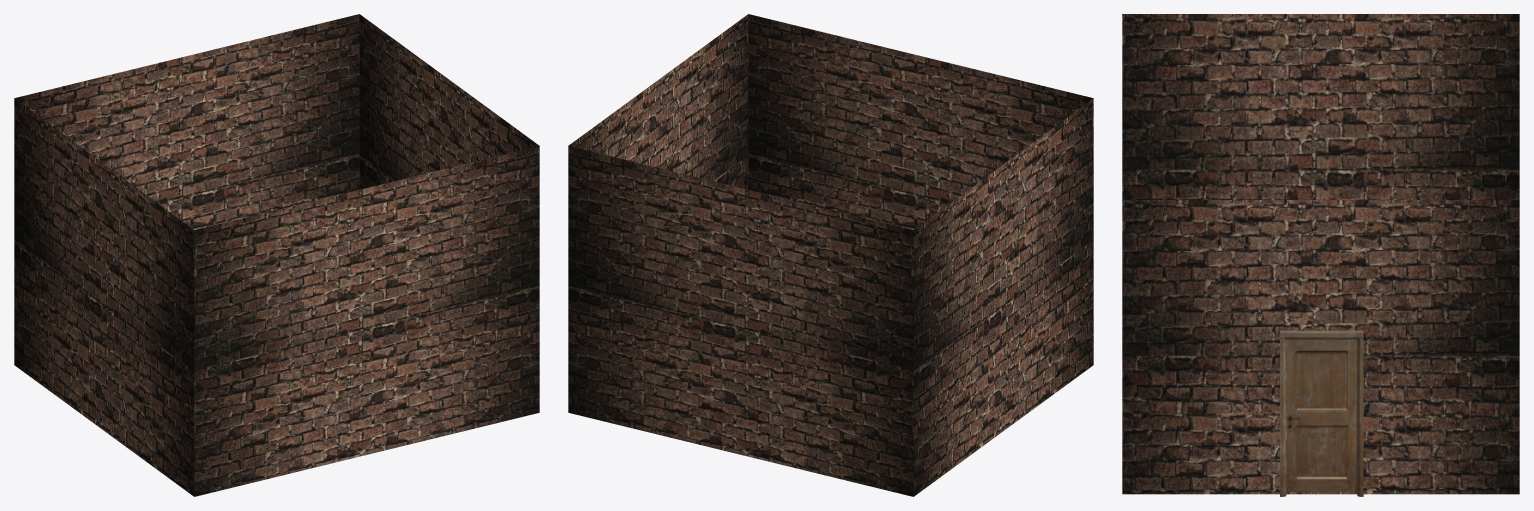
File: basement_gameplay.glb
3 views of the same model, side by side, from view 1: azimuth 30°, elevation 25°; view 2: azimuth 150°, elevation 25°; view 3: azimuth 270°, elevation 25° (orthographic). The views are drawn at different scales.
Parts seen in each view (by area): view 1: cuarto; view 2: cuarto; view 3: cuarto, Worn Door_005_Doors_0, Worn Doorframe_005_Doors_0.
Part boxes in pixels (bbox=[...]): cuarto: bbox=[14, 14, 539, 496]; cuarto: bbox=[568, 14, 1093, 496]; cuarto: bbox=[1122, 14, 1519, 494]; Worn Door_005_Doors_0: bbox=[1286, 339, 1357, 492]; Worn Doorframe_005_Doors_0: bbox=[1280, 330, 1363, 496].
Bounding box in the file's own units: 45.49 × 35.38 × 40.72.
Materials: 6 (6 with a texture image).
